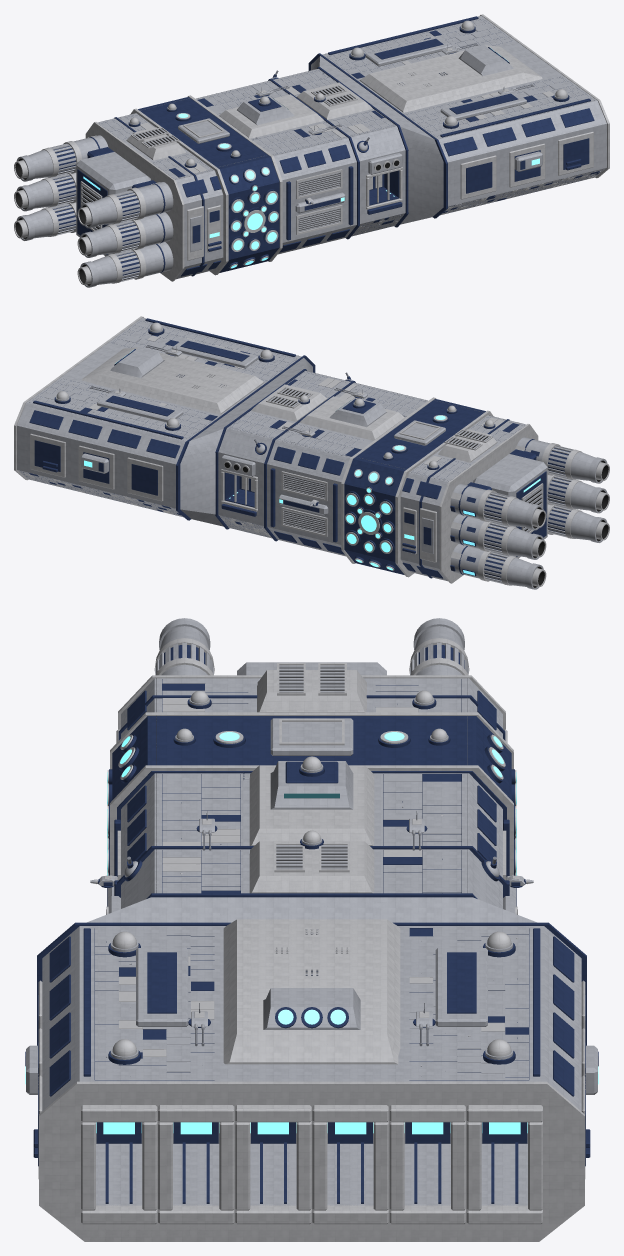
3 renders of one model, top to bottom at view 1: azimuth 30°, elevation 25°; view 2: azimuth 150°, elevation 25°; view 3: azimuth 270°, elevation 25°, orthographic. The views are drawn at different scales.
Parts seen in each view (by area): view 1: bow_bow_mid, mid_mid, bow_light, bow_dark, bow_mid, ring_dark, stern_mid, stern_light, hangar_hull_mid, ring_light, engines.thruster.001, engines.thruster.003 (+14 smaller); view 2: bow_bow_mid, mid_mid, bow_light, bow_dark, bow_mid, ring_dark, stern_mid, stern_light, hangar_hull_mid, ring_light, engines.thruster, engines.thruster.002 (+14 smaller); view 3: bow_light, bow_bow_mid, bow_bow_light, bow_dark, bow_mid, mid_mid, ring_dark, hangar_hull_mid, stern_mid, ring_light, mid_light, stern_light (+10 smaller).
Boxes of the visible parts, x1,y1,x2,y2 form: bow_bow_mid: [322, 15, 606, 213]; mid_mid: [196, 80, 356, 254]; bow_light: [359, 45, 593, 199]; bow_dark: [308, 16, 594, 227]; bow_mid: [311, 36, 542, 224]; ring_dark: [138, 97, 279, 272]; stern_mid: [76, 113, 223, 279]; stern_light: [80, 122, 220, 281]; hangar_hull_mid: [273, 68, 405, 236]; ring_light: [130, 95, 282, 275]; engines.thruster.001: [77, 182, 173, 228]; engines.thruster.003: [77, 212, 173, 257]; bow_bow_mid: [17, 317, 301, 517]; mid_mid: [267, 382, 427, 556]; bow_light: [30, 347, 264, 501]; bow_dark: [29, 318, 315, 529]; bow_mid: [81, 338, 312, 526]; ring_dark: [344, 399, 485, 574]; stern_mid: [400, 415, 547, 581]; stern_light: [403, 424, 543, 583]; hangar_hull_mid: [218, 370, 350, 537]; ring_light: [341, 397, 493, 577]; engines.thruster: [450, 484, 546, 530]; engines.thruster.002: [450, 514, 546, 559]; bow_light: [38, 919, 585, 1224]; bow_bow_mid: [42, 926, 581, 1205]; bow_bow_light: [39, 1081, 584, 1241]; bow_dark: [25, 893, 598, 1203]; bow_mid: [26, 897, 597, 1094]; mid_mid: [107, 761, 516, 906]; ring_dark: [109, 716, 514, 875]; hangar_hull_mid: [121, 849, 502, 908]; stern_mid: [121, 662, 502, 737]; ring_light: [107, 712, 516, 875]; mid_light: [117, 765, 506, 880]; stern_light: [116, 663, 507, 742].
Bounding box in the file's own units: 1200 × 311 × 600.
Materials: 7 (4 with a texture image).
